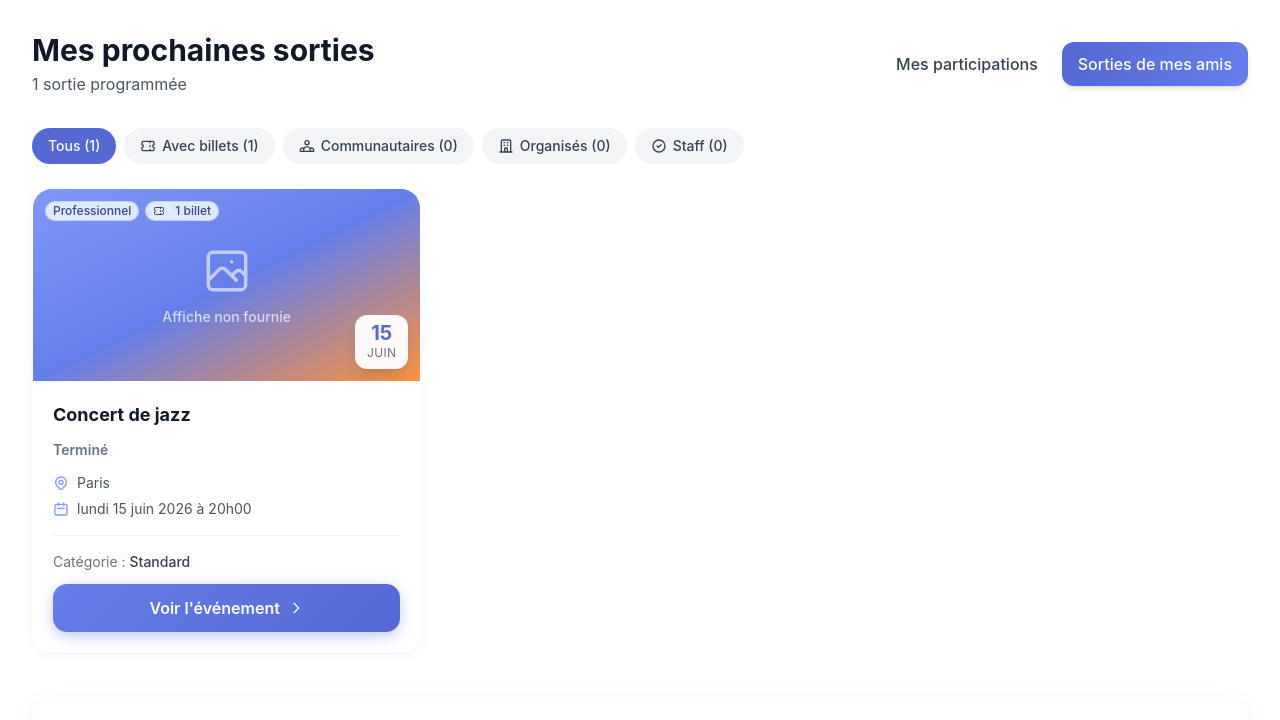
MyUpcomingEventsPage - listing and filters › shows a message when no event matches the active filter
The image size is (1280, 720).
Check: the heading "Concert de jazz" is shown, box top-left (53, 404), bottom-right (191, 425)
Click the button "Staff (0)": click(689, 146) top-left (635, 128), bottom-right (744, 164)
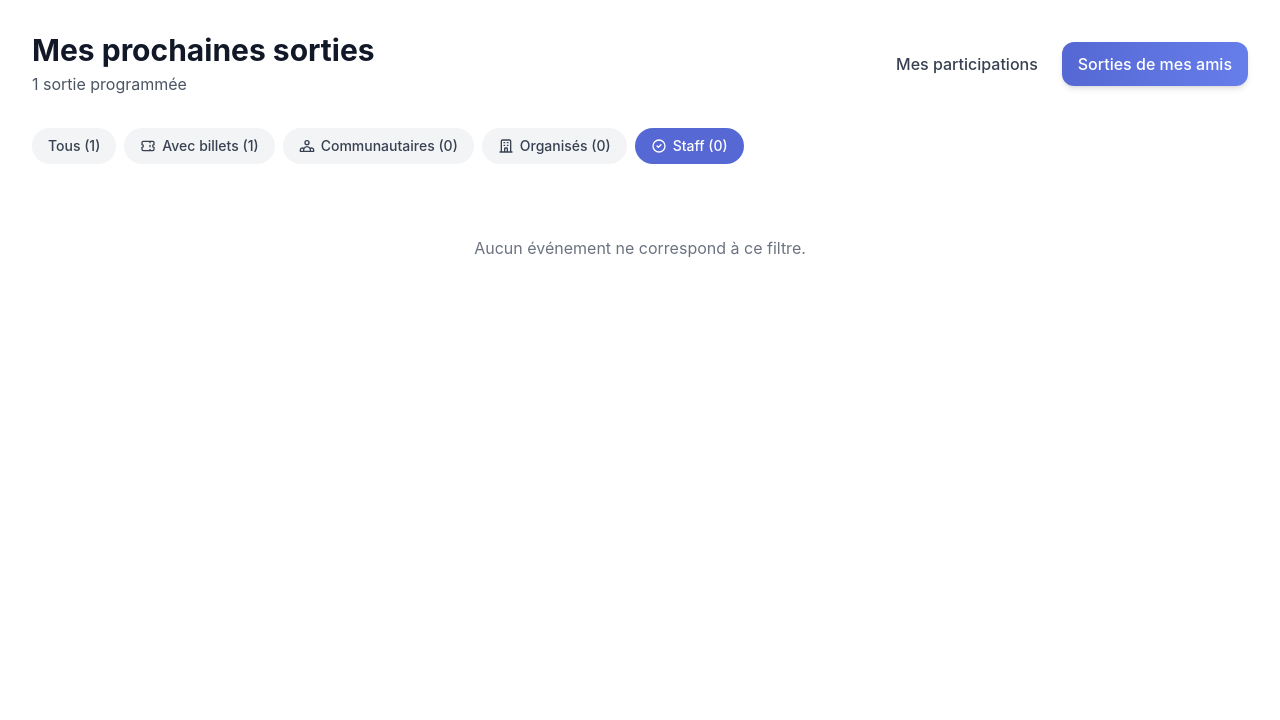
Check: the text "Aucun événement ne correspond à ce filtre." is shown, box top-left (474, 238), bottom-right (806, 258)
